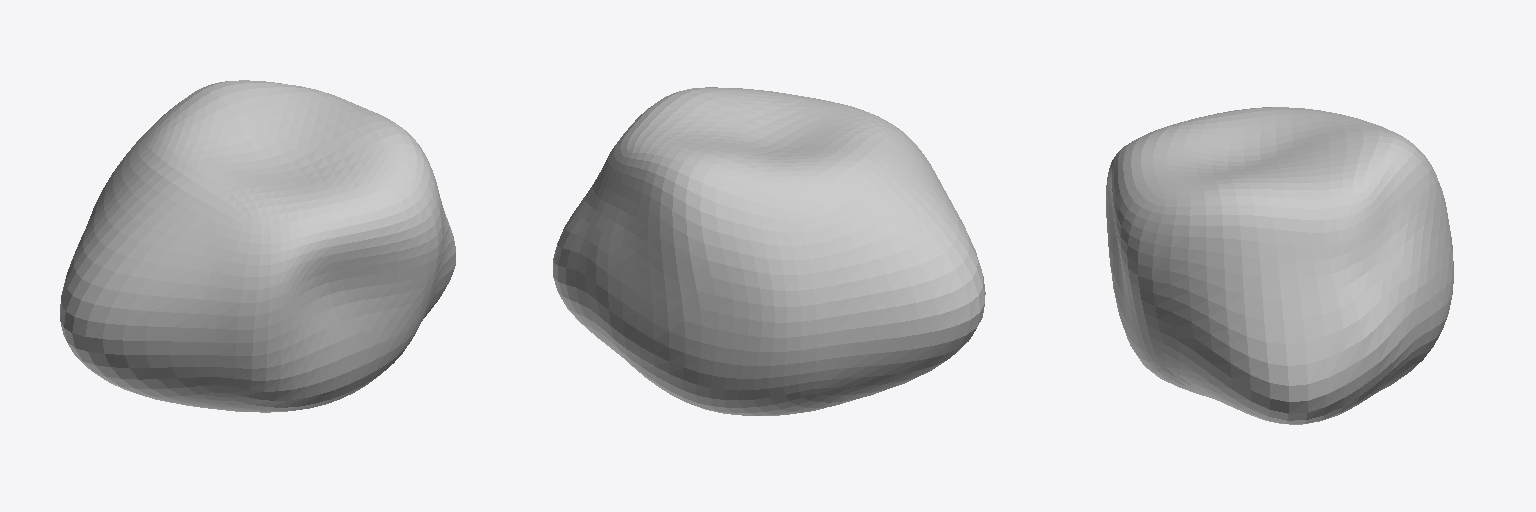
Rendered from rock1.obj.
3 views of the same model, side by side, from view 1: azimuth 30°, elevation 25°; view 2: azimuth 150°, elevation 25°; view 3: azimuth 270°, elevation 25° (orthographic).
Visible parts, largest first — view 1: default; view 2: default; view 3: default.
Boxes of the visible parts, <box> form: default: <box>60,80,455,412</box>; default: <box>553,87,985,415</box>; default: <box>1106,107,1453,424</box>.
Size of the model in its own units: 1.3 by 0.8053 by 0.9874.